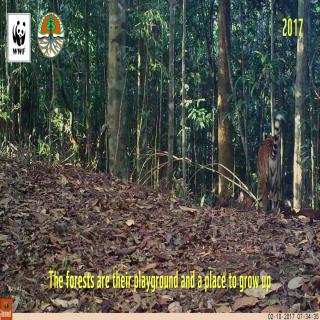Tiger: (249, 117, 288, 223)
